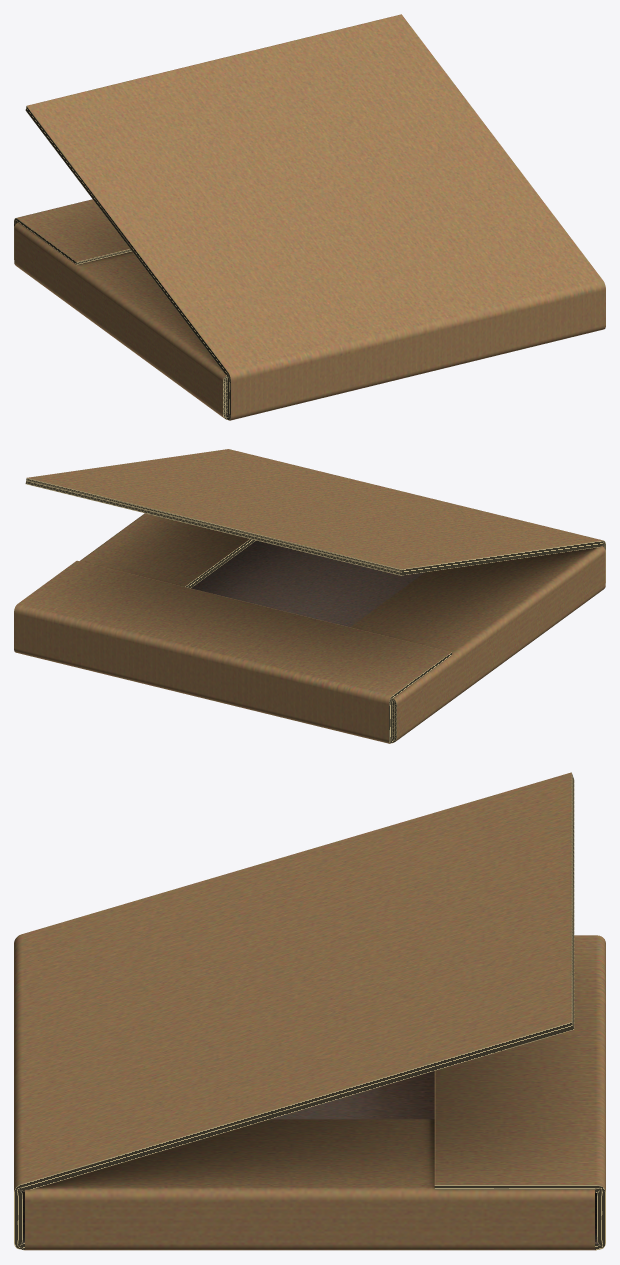
Rendered from INPACKET.glb.
3 views of the same model, one above another, from view 1: azimuth 30°, elevation 25°; view 2: azimuth 150°, elevation 25°; view 3: azimuth 270°, elevation 25° (orthographic). The views are drawn at different scales.
Parts seen in each view (by area): view 1: PARA_ARTIOS_ARD-node.001; view 2: PARA_ARTIOS_ARD-node.001; view 3: PARA_ARTIOS_ARD-node.001.
Part boxes in pixels (x1,y1,x2,y2): PARA_ARTIOS_ARD-node.001: [14, 14, 605, 420]; PARA_ARTIOS_ARD-node.001: [14, 449, 605, 743]; PARA_ARTIOS_ARD-node.001: [14, 772, 605, 1250].
Size of the model in its own units: 0.5419 by 0.2266 by 0.5319.
3 materials, 3 textured.
